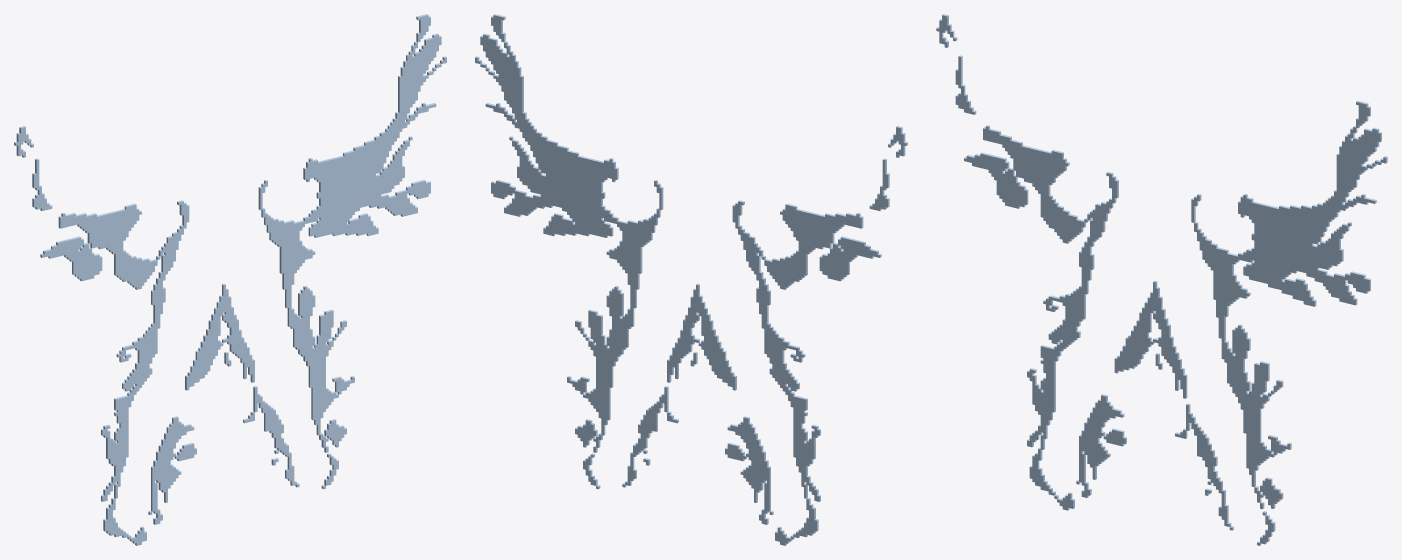
File: Fight_757_3_10_fx.obj
3 views of the same model, side by side, from view 1: azimuth 30°, elevation 25°; view 2: azimuth 150°, elevation 25°; view 3: azimuth 330°, elevation 25° (orthographic). The views are drawn at different scales.
Bounding box in the file's own units: 16.4 × 16.7 × 0.1.
1 material, 1 textured.
